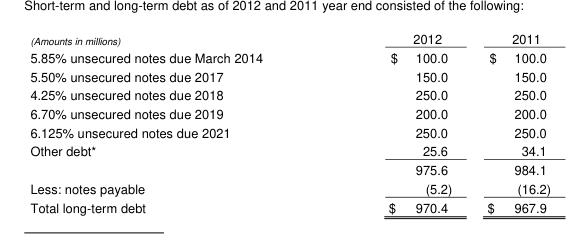table: (29, 29, 549, 216)
table column: (29, 29, 324, 216), (324, 29, 468, 216), (468, 29, 549, 216)
table column header: (29, 29, 549, 47)
table row: (29, 47, 549, 66), (29, 66, 549, 85), (29, 103, 549, 122), (29, 140, 549, 159), (29, 159, 549, 178), (29, 178, 549, 197), (29, 197, 549, 216), (29, 29, 549, 47), (29, 85, 549, 103), (29, 122, 549, 140)
